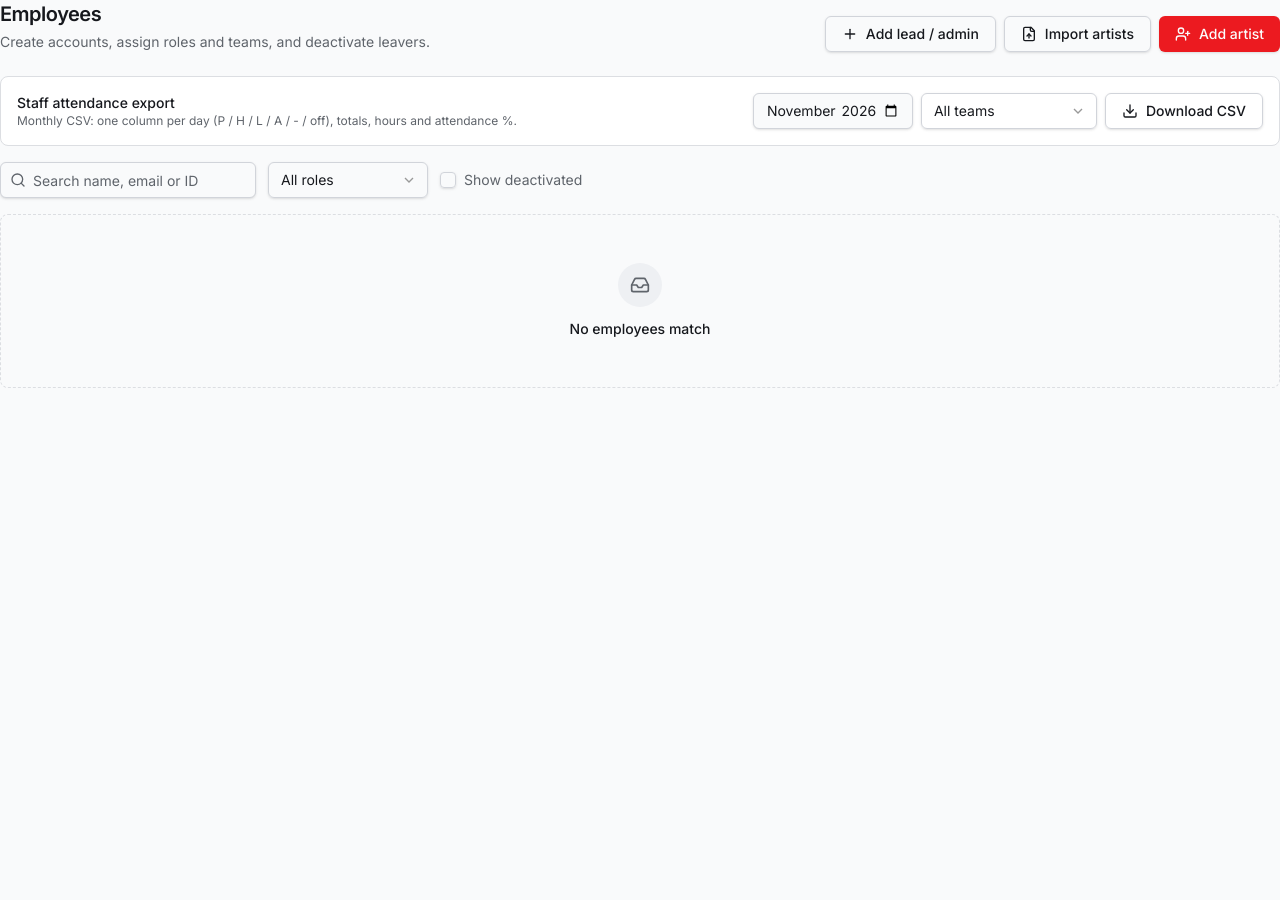
Test: three roles: admin, team lead, artist › admin creates an artist with an Employee ID and sees the one-time credentials
Click the button "Add artist" at (1219, 34), box [1159,16,1279,52]
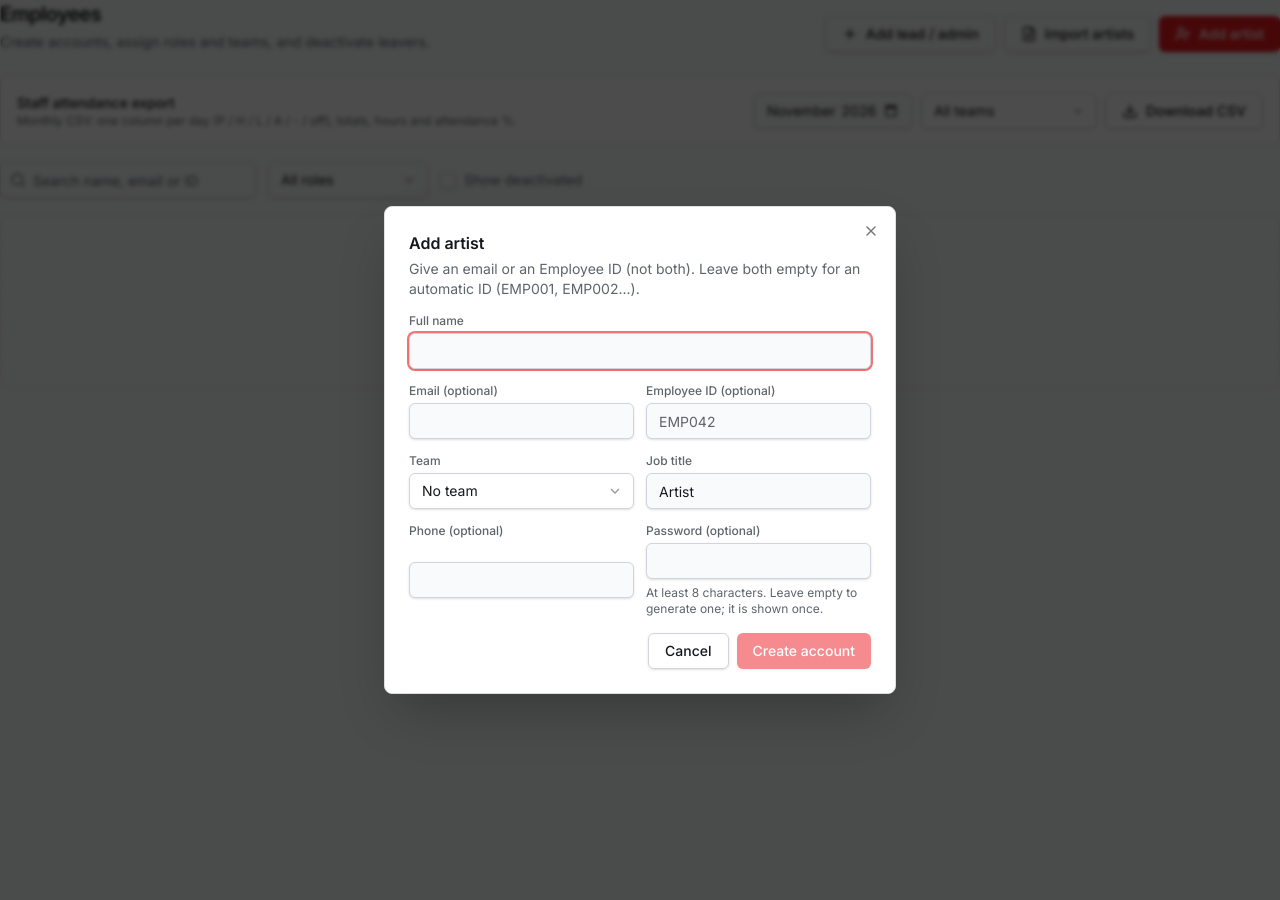
Type "Asha Rao" into the field labelled "Full name" at (640, 351), box [409,333,871,369]
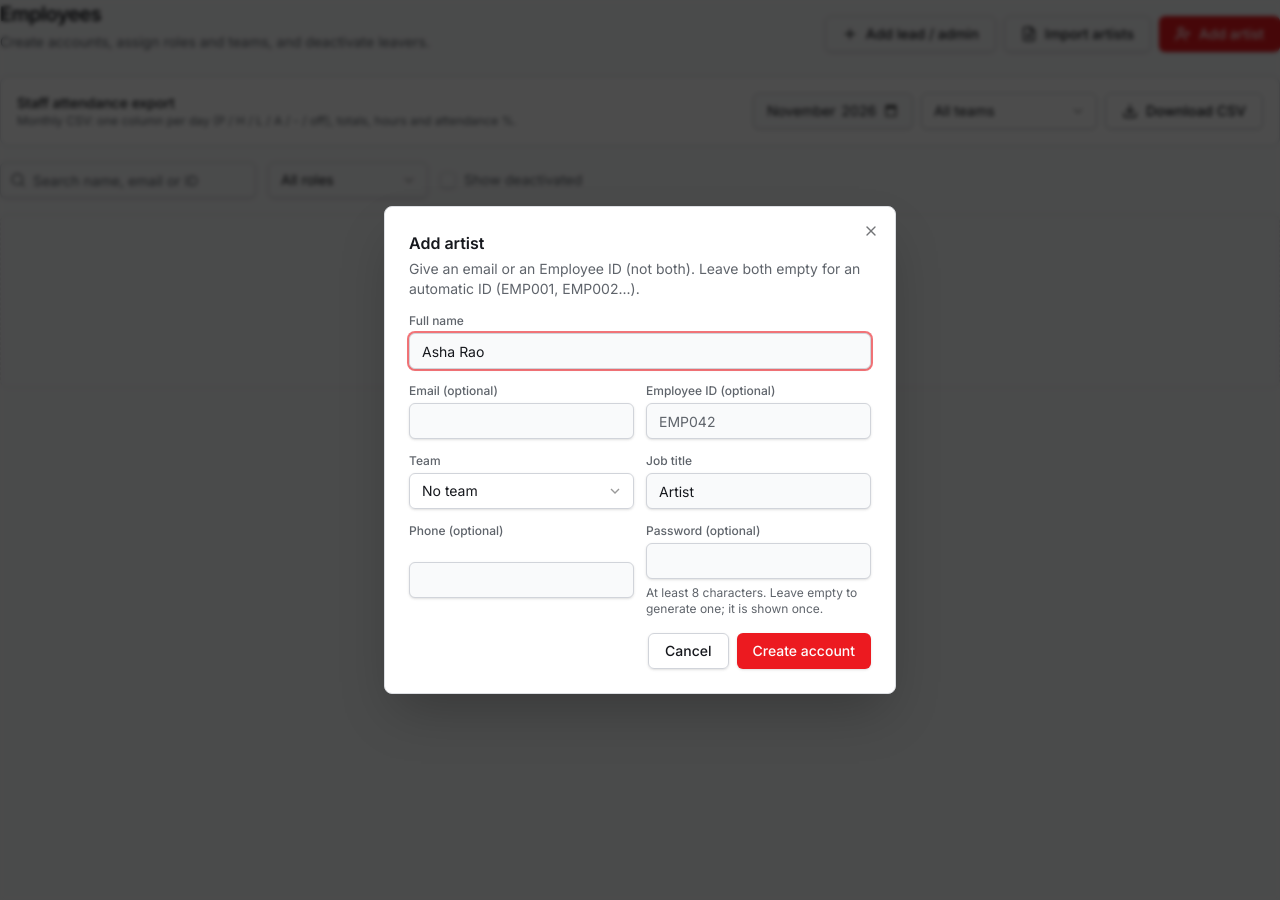
Type "EMP007" into the field labelled "Employee ID (optional)" at (758, 421), box [646,403,871,439]
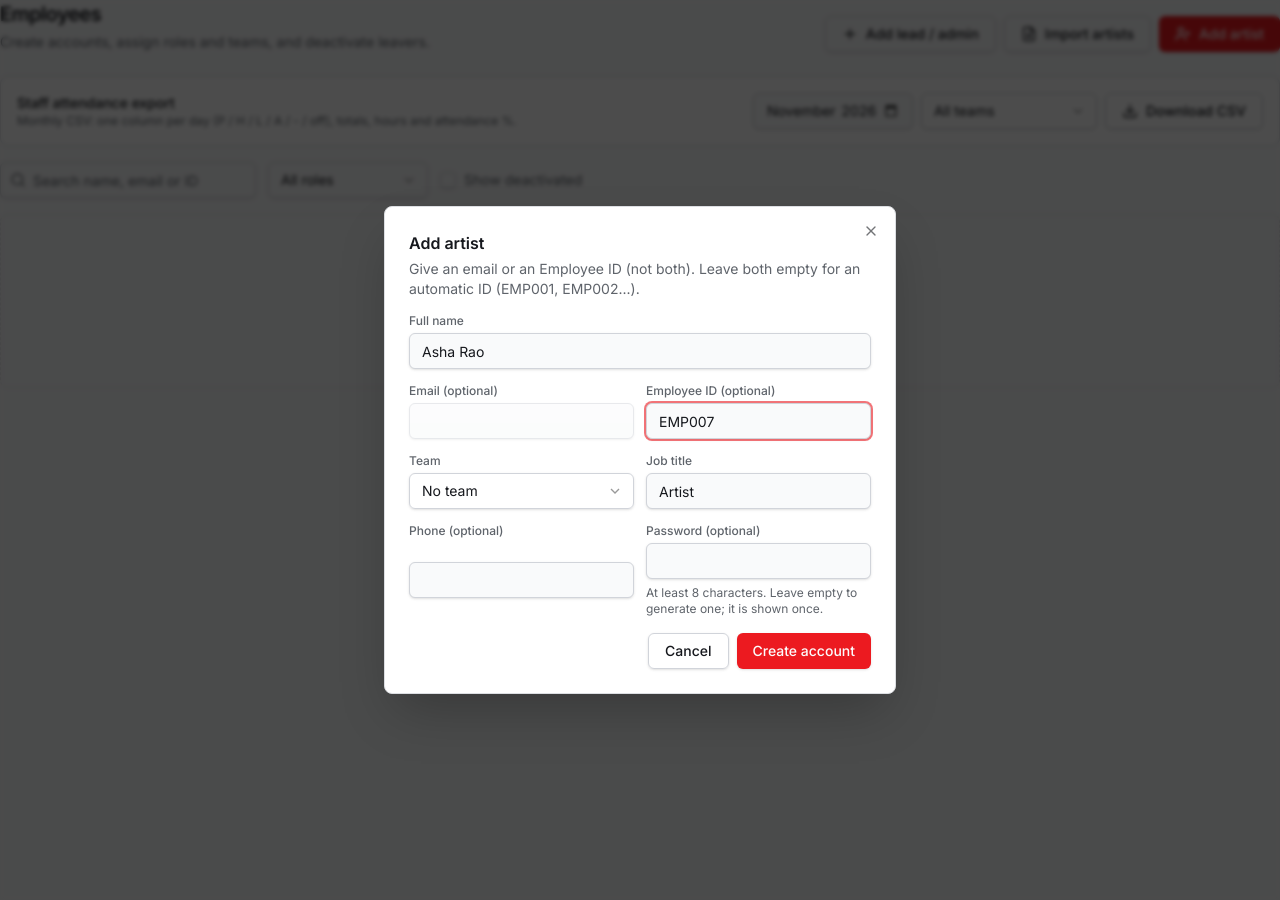
Select "Animation Unit" in the dropdown labelled "Team" at (522, 491), box [409,473,634,509]
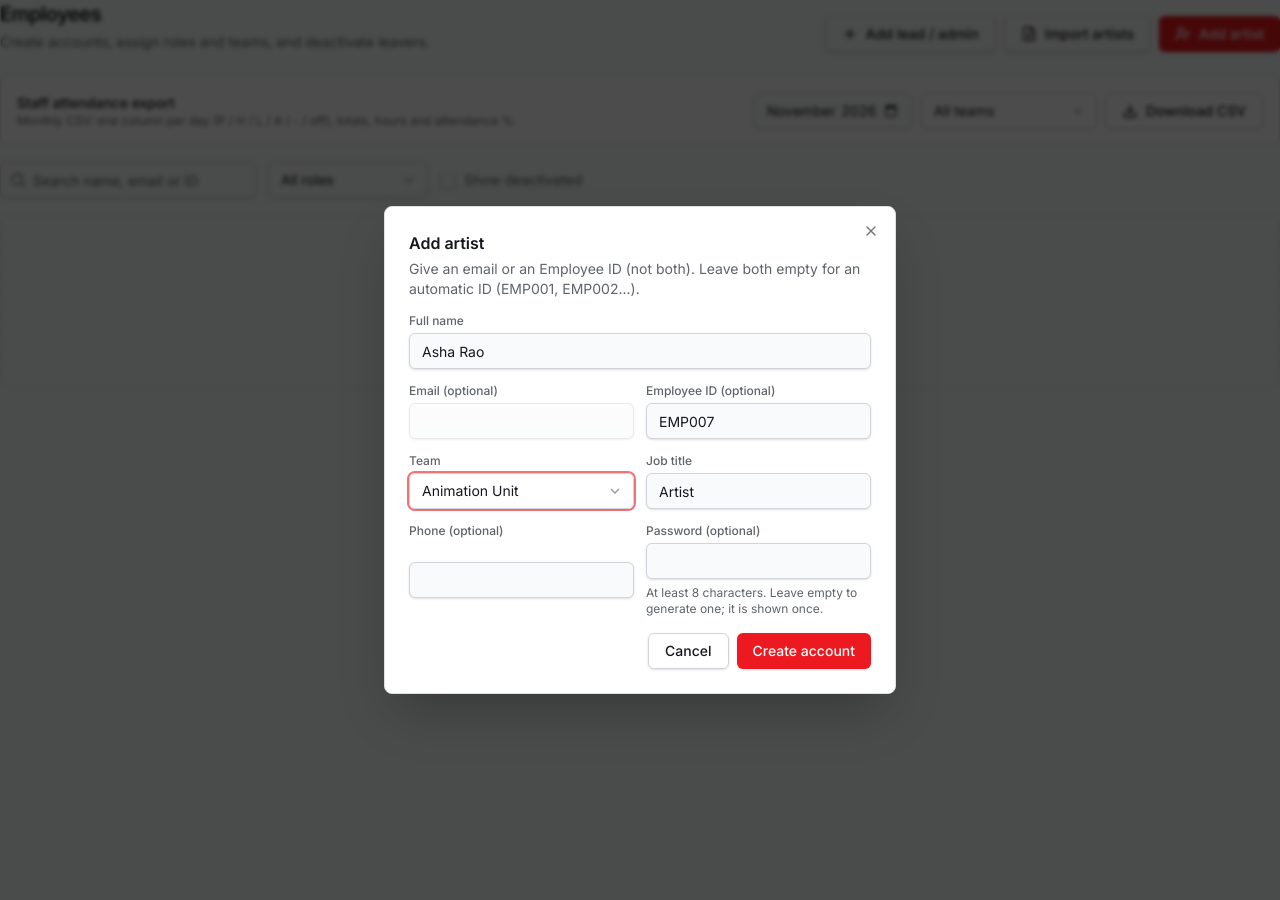
Click the button "Create account" at (804, 651), box [736,633,871,669]
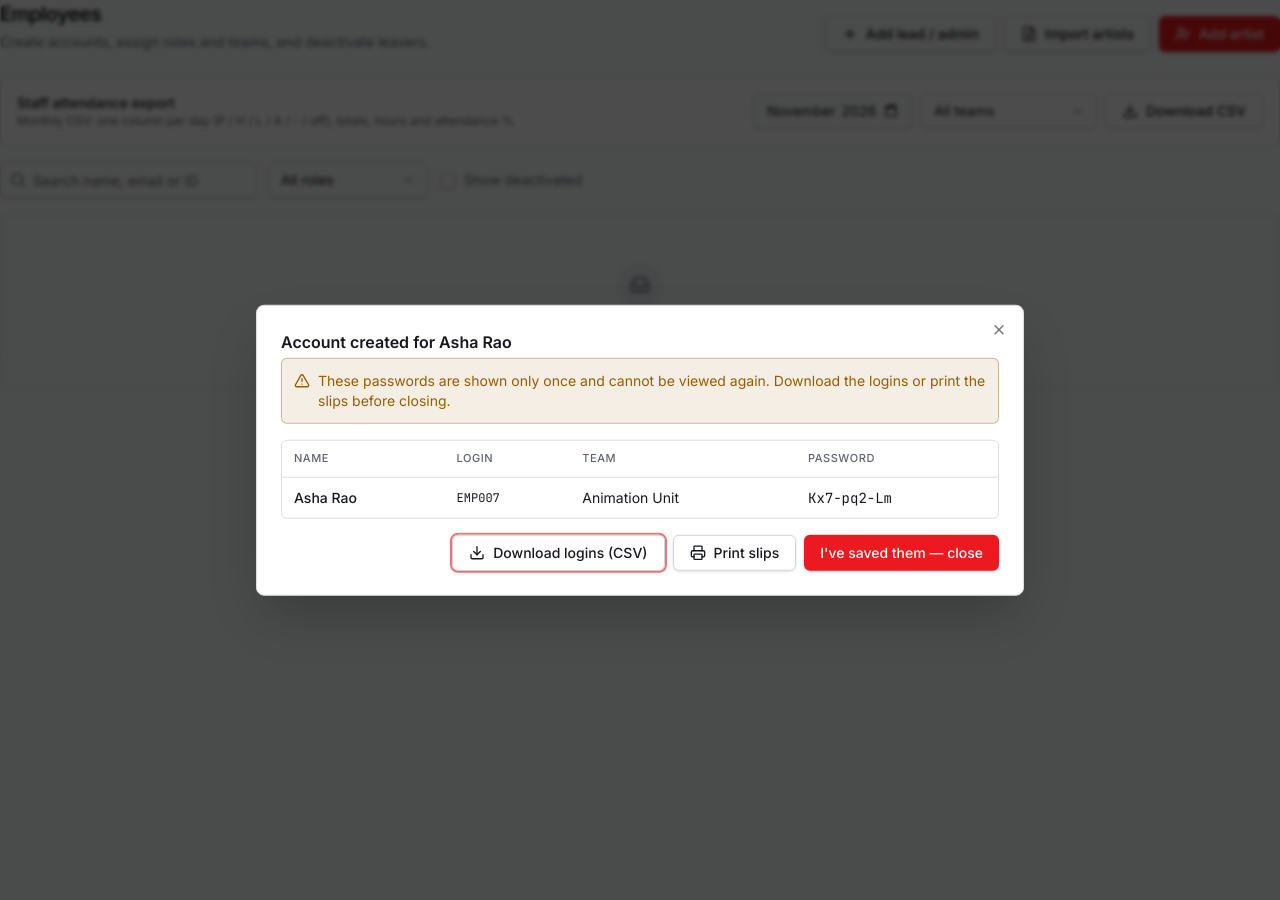
Expected: the text "Kx7-pq2-Lm" is shown, [796,477,998,517]
Expected: the text "shown only once" is shown, [318,372,985,409]
Expected: the button "Download logins (CSV)" is shown, [452,534,664,570]
